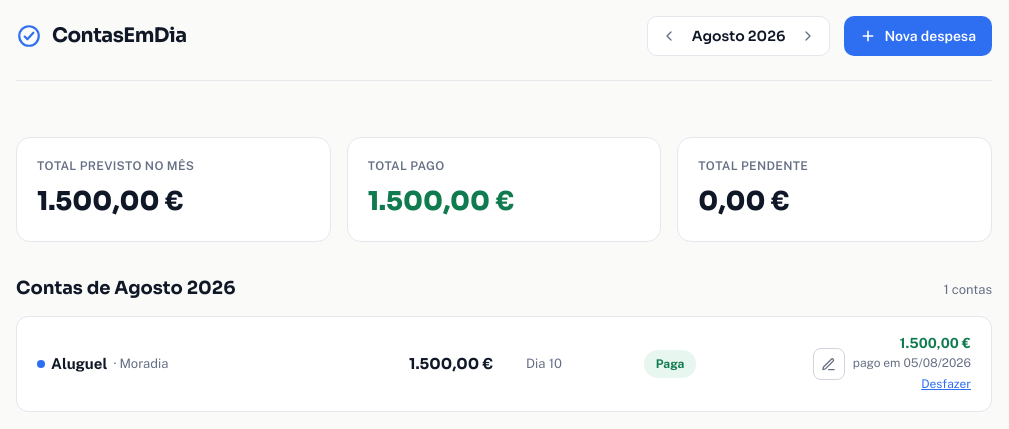
Test: PainelMensalDespesasComponent › undoing a payment can recalculate status to Pending when the due date is far in the future
Click the button with test id "desfazer-btn": coordinates (946, 384) 921,375 -> 971,393
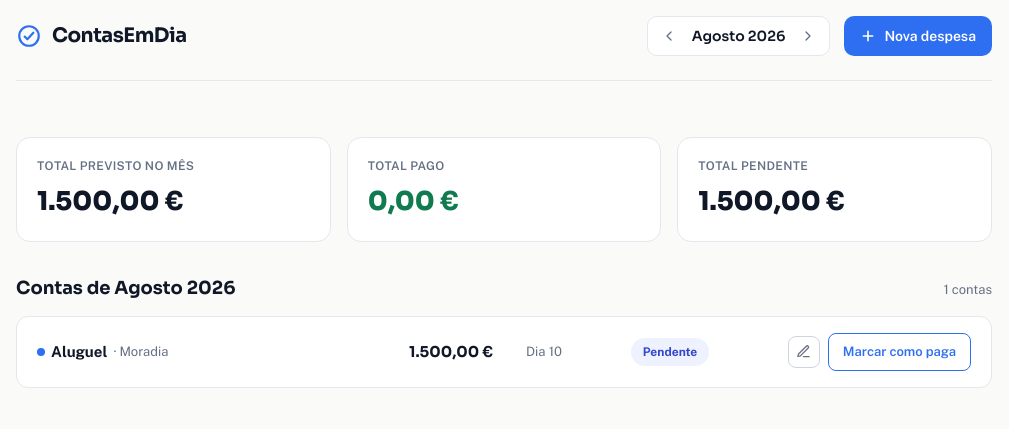
Check: the element with test id "occurrence-row" shows "Pendente", box 643,345 -> 697,359
